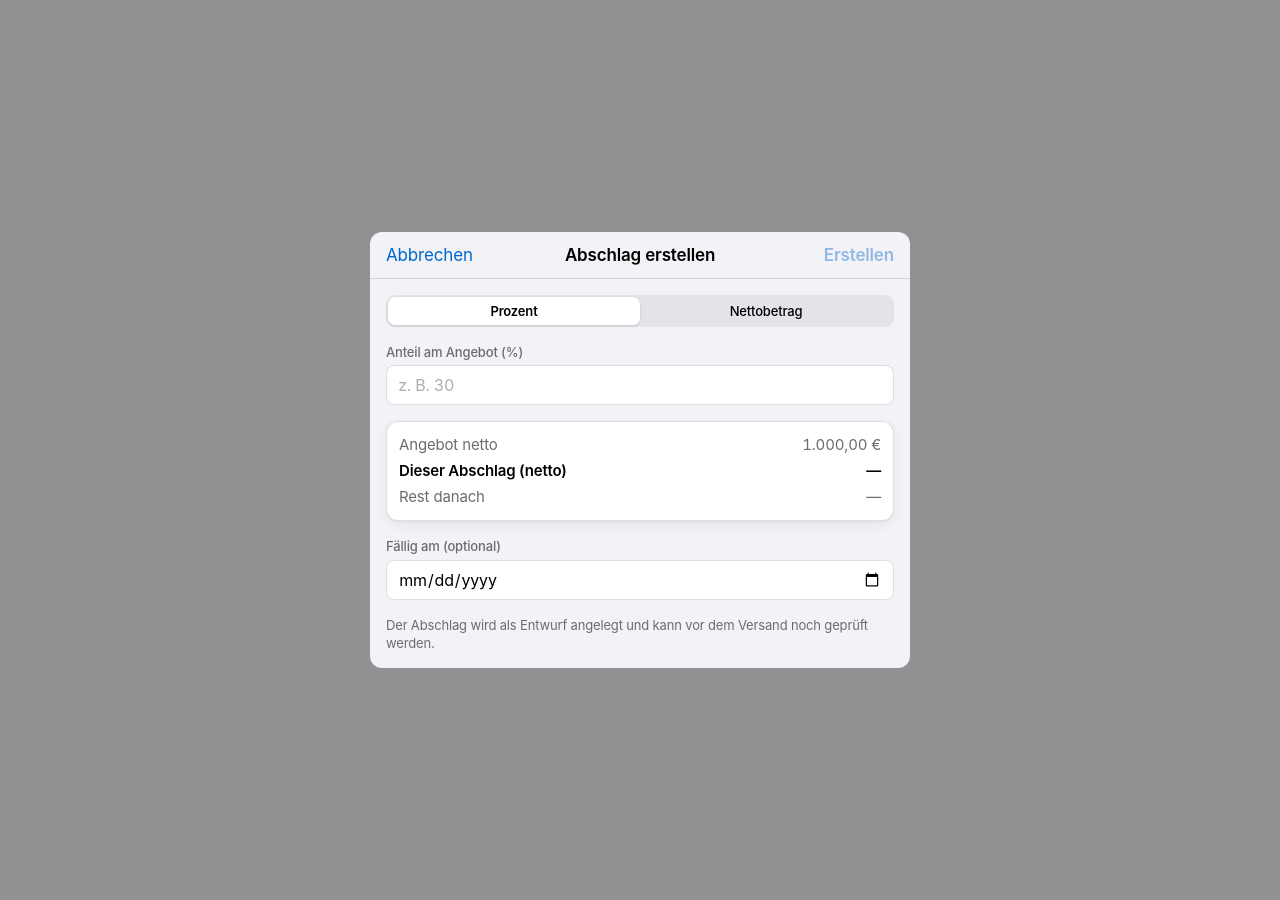
Test: AbschlagSheet › zeigt die Serverfehlermeldung im Sheet
Step 1. Type "10" into the field labelled "Anteil am Angebot (%)" → x=640, y=385, box [386, 365, 894, 405]
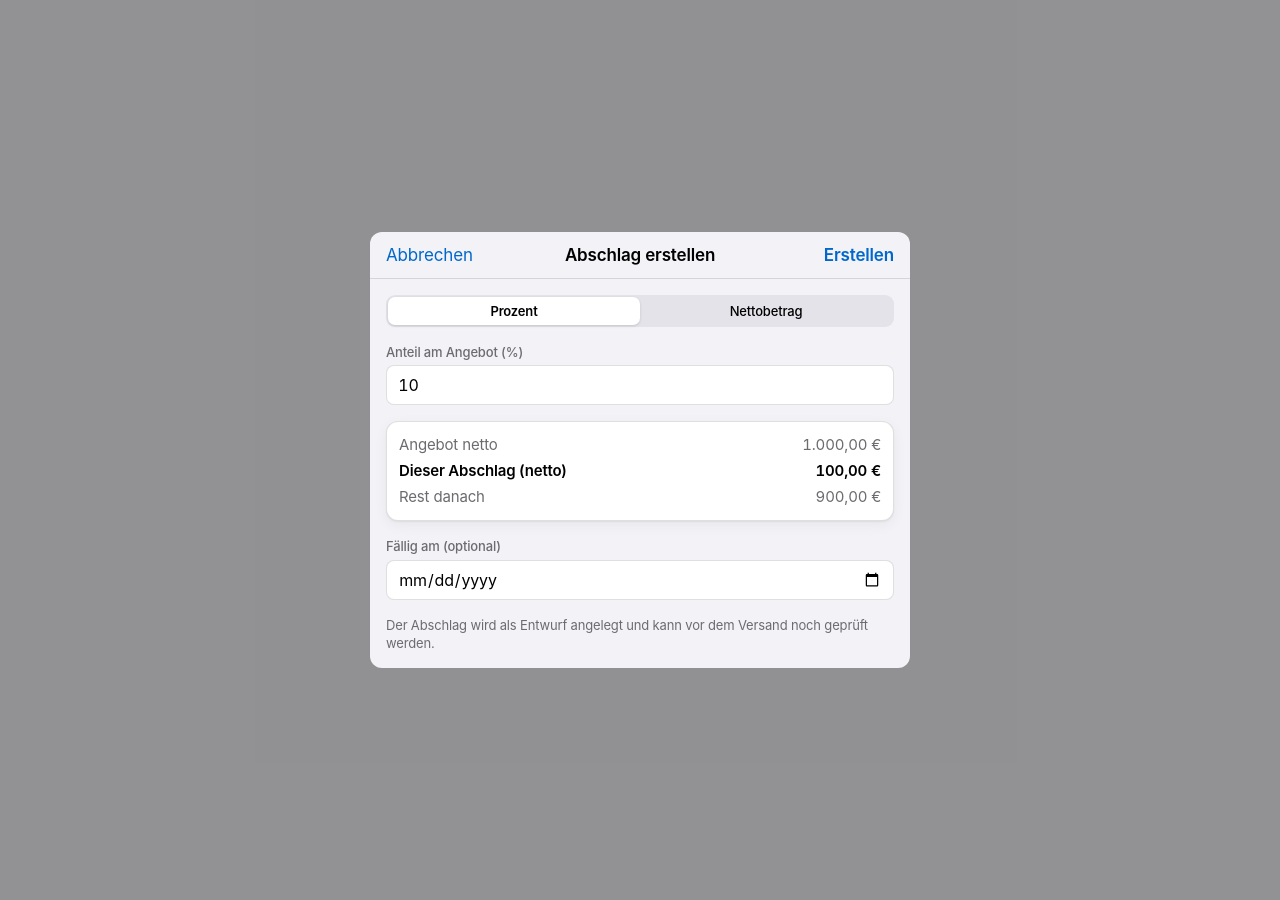
Step 2. Click the button "Erstellen" → x=859, y=255, box [824, 244, 894, 266]
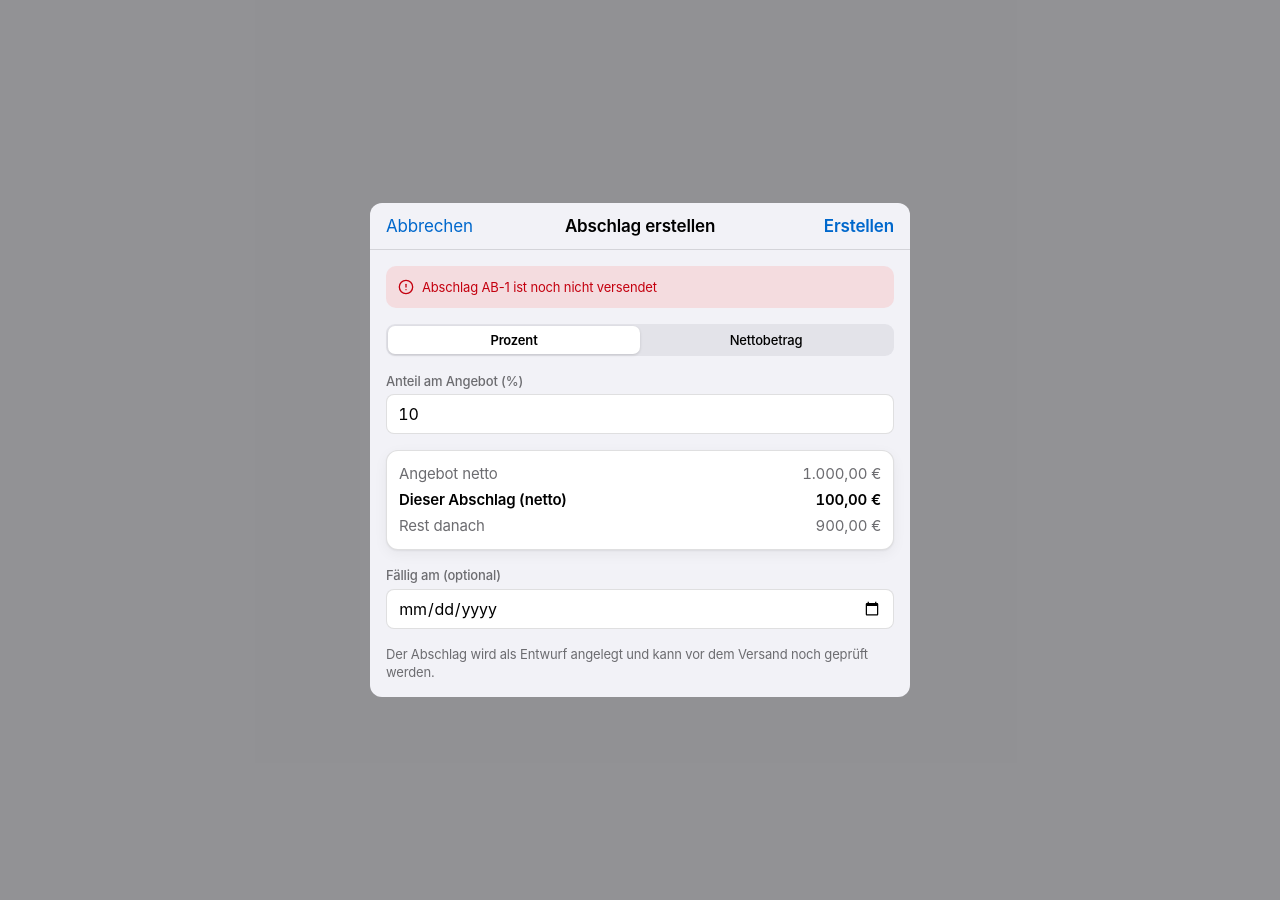
Now the button "Erstellen" is enabled, box [824, 215, 894, 237]
Now the text "Abschlag AB-1 ist noch nicht versendet" is shown, box [422, 279, 657, 295]
